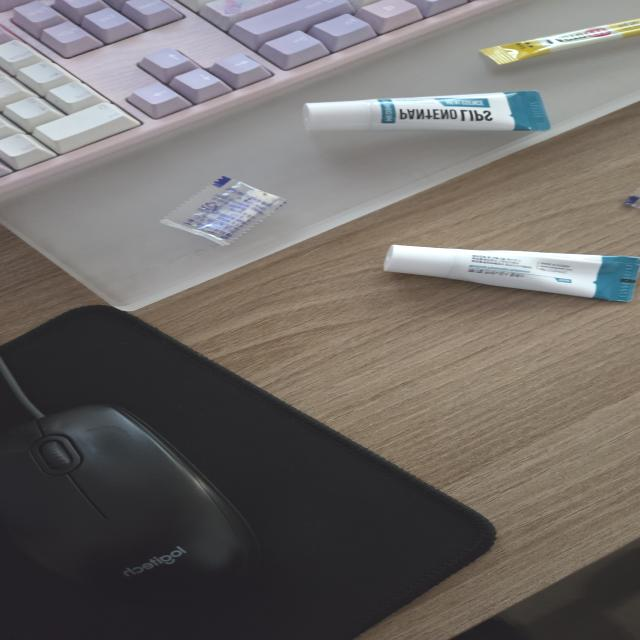lacto: (477, 18, 638, 67)
lib: (367, 238, 640, 302), (301, 90, 551, 134)
salt: (163, 172, 284, 250), (625, 182, 638, 209)
